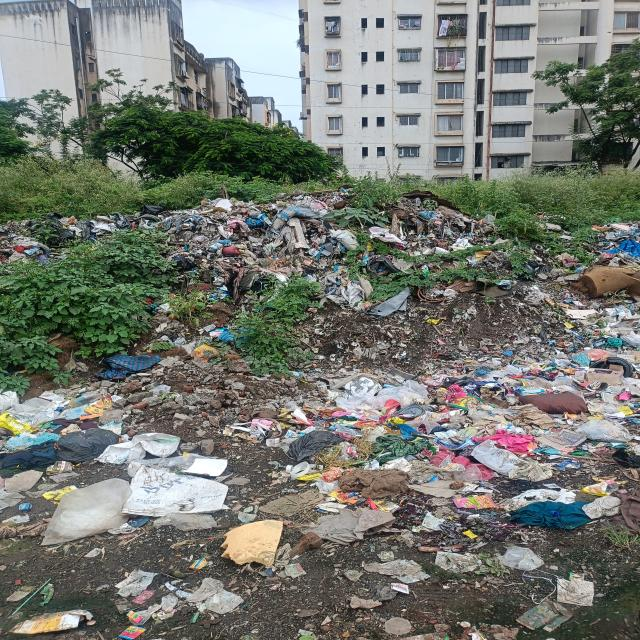garbage: (4, 201, 640, 640)
